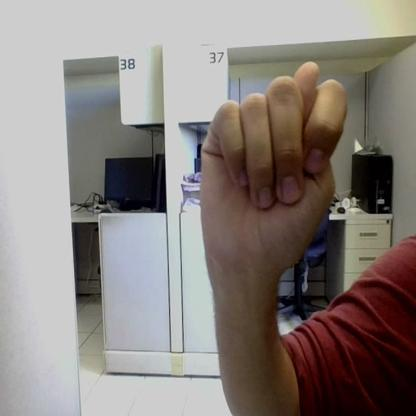T: (203, 62, 346, 251)
